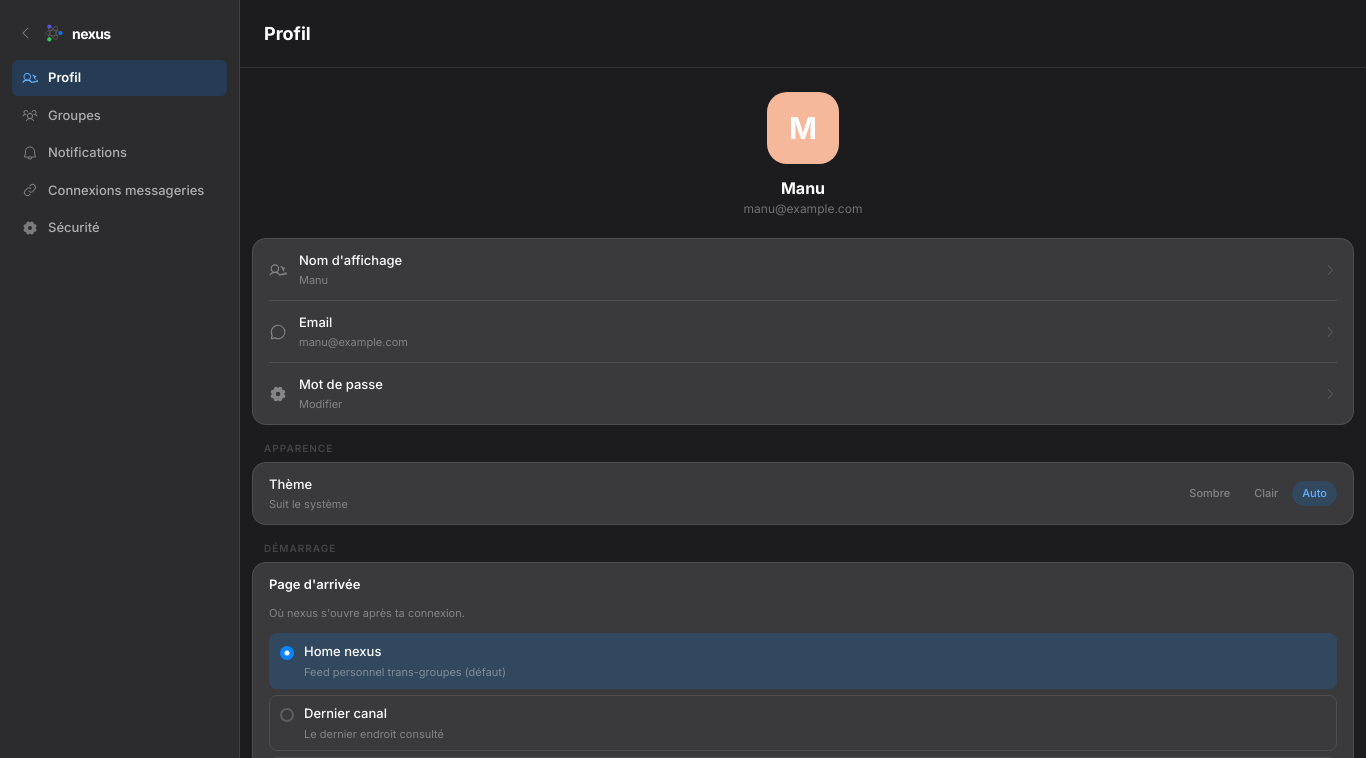
Test case: SettingsScreen › section "À propos" — version desktop (MAN-134) › affiche un état de chargement tant que getVersion() est en attente
The width and height of the screenshot is (1366, 758).
What coordinates should you click on to do the following:
click the button "Sécurité"
I would click on:
 (120, 228)
Its box is top-left (12, 210), bottom-right (227, 246).
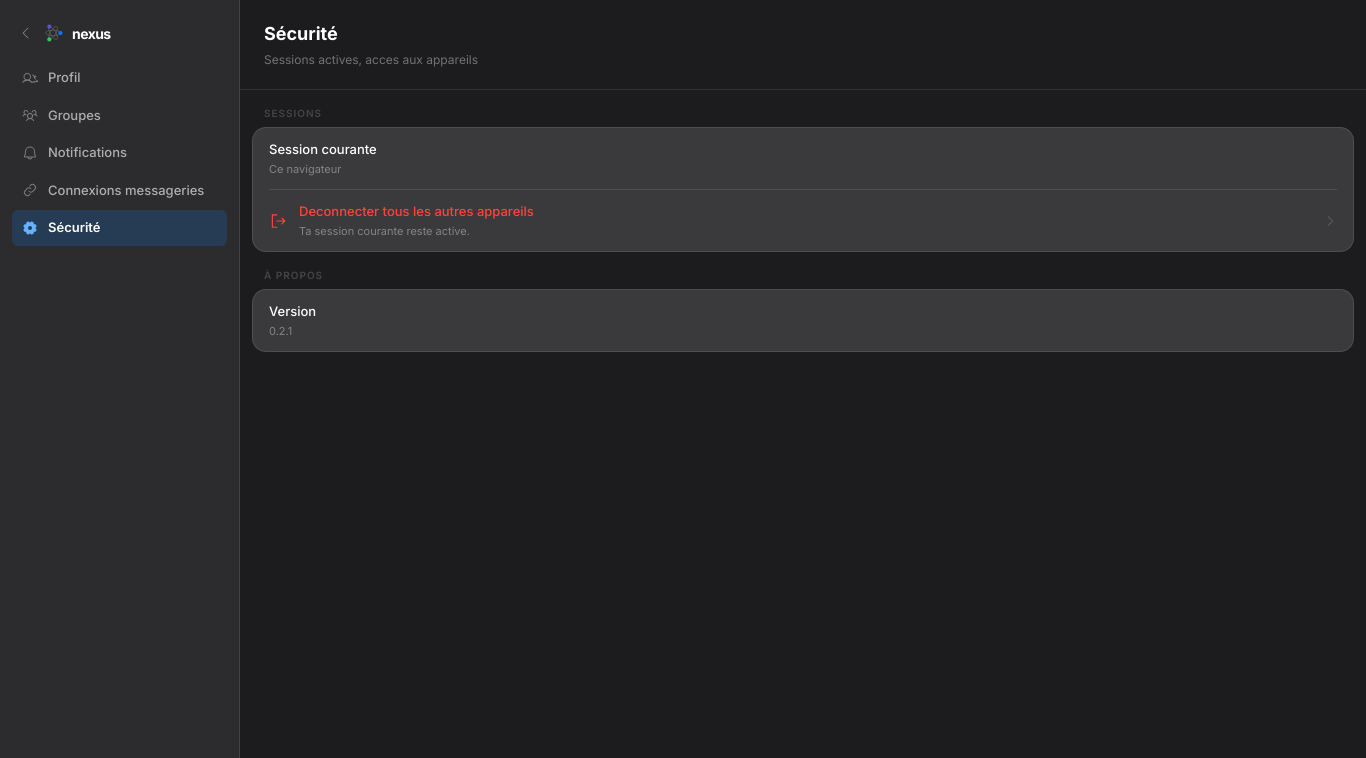
Now the text "0.2.1" is shown, box top-left (269, 324), bottom-right (292, 338)
